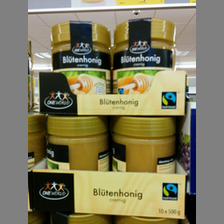honey: (114, 116, 180, 173), (46, 115, 112, 171), (113, 19, 180, 70), (50, 21, 111, 69)
